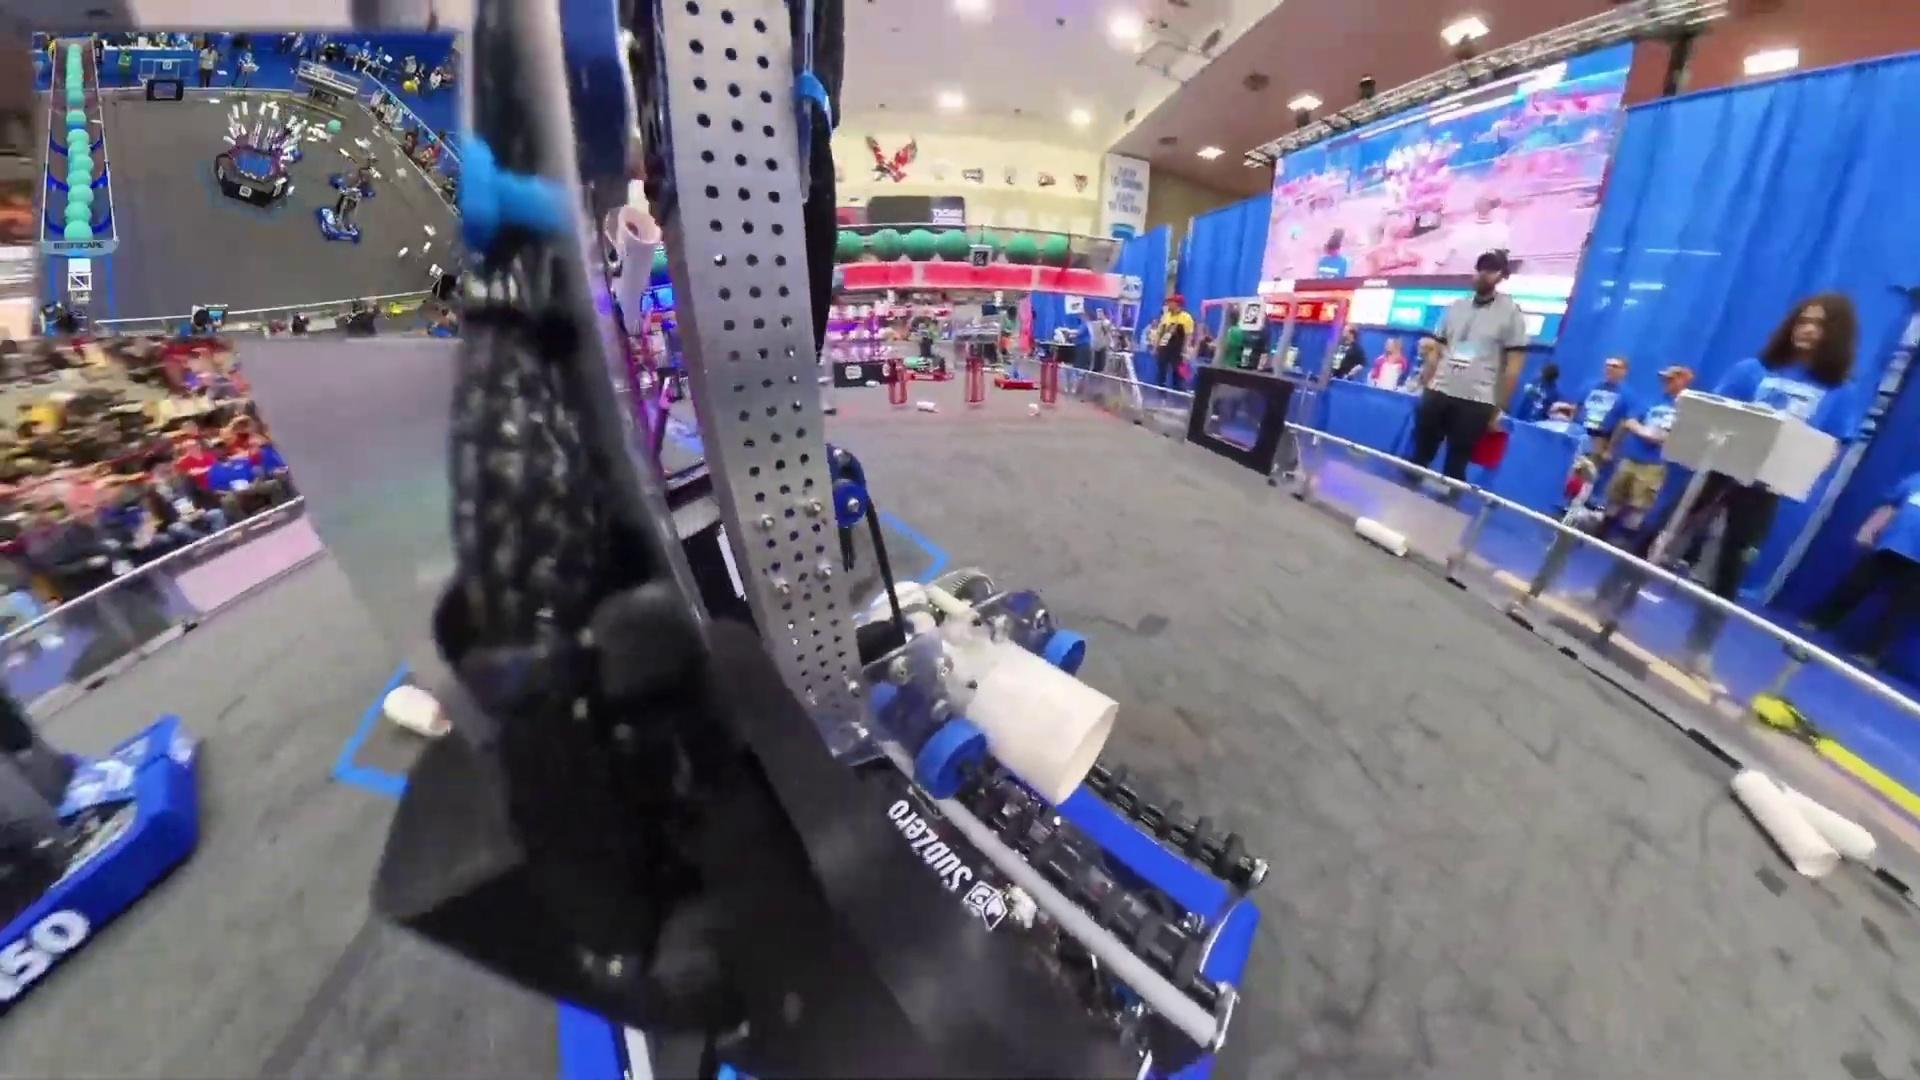robot: (3, 670, 207, 1022), (313, 183, 371, 245), (901, 335, 955, 382), (327, 152, 378, 199), (988, 357, 1040, 398)
